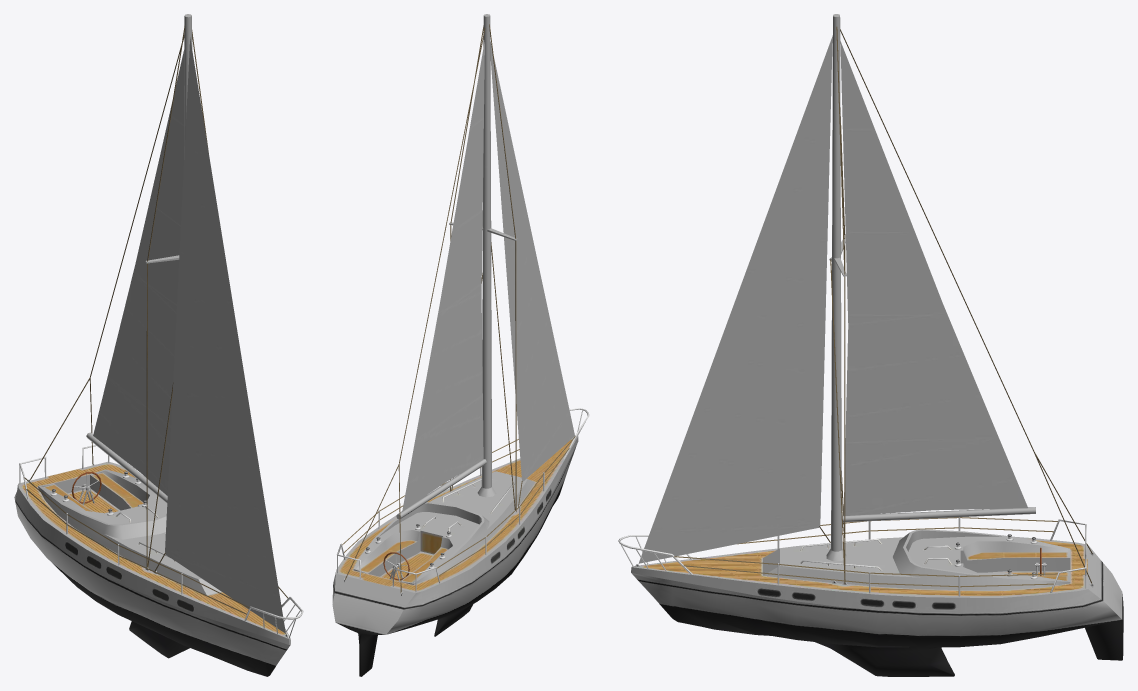
The model's file is sf-sailboat.glb.
3 renders of one model, left to right at view 1: azimuth 30°, elevation 25°; view 2: azimuth 150°, elevation 25°; view 3: azimuth 270°, elevation 25°, orthographic. The views are drawn at different scales.
Visible parts, largest first — view 1: Sailboat_01 - Default_0; view 2: Sailboat_01 - Default_0; view 3: Sailboat_01 - Default_0.
Boxes of the visible parts, x1,y1,x2,y2 form: Sailboat_01 - Default_0: (14, 14, 303, 676); Sailboat_01 - Default_0: (332, 14, 589, 676); Sailboat_01 - Default_0: (618, 14, 1123, 676).
Size of the model in its own units: 506 by 2441 by 1690.
Materials: 1 (1 with a texture image).
